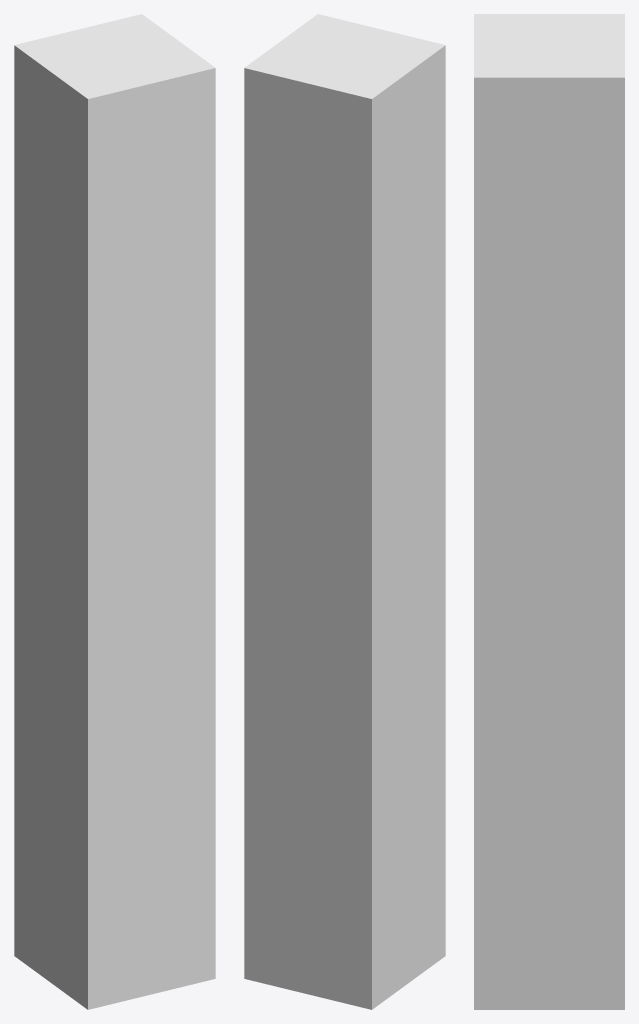
The model's file is Column.FBX.
3 views of the same model, side by side, from view 1: azimuth 30°, elevation 25°; view 2: azimuth 150°, elevation 25°; view 3: azimuth 270°, elevation 25° (orthographic). The views are drawn at different scales.
Visible parts, largest first — view 1: Column; view 2: Column; view 3: Column.
Part boxes in pixels (x1,y1,x2,y2): Column: [14, 14, 215, 1009]; Column: [244, 14, 445, 1009]; Column: [474, 14, 624, 1009].
Bounding box in the file's own units: 40 × 272 × 40.
Materials: 1 (1 with a texture image).
